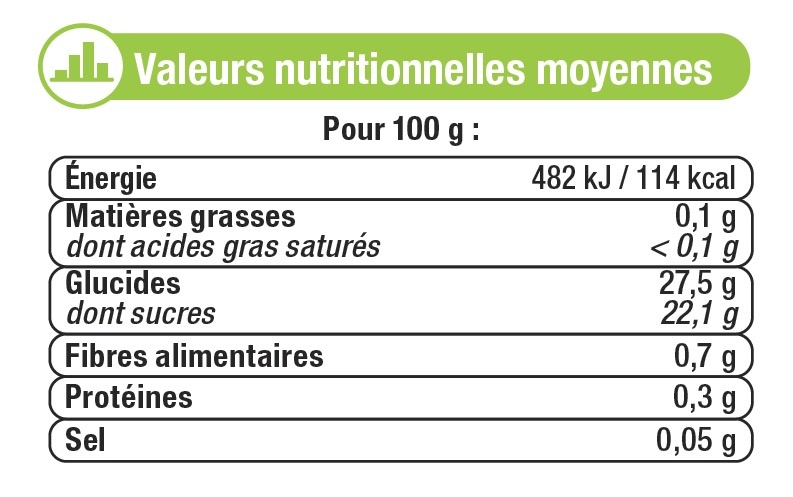column: (65, 160, 381, 454), (530, 162, 736, 458)
table: (53, 110, 755, 464)
